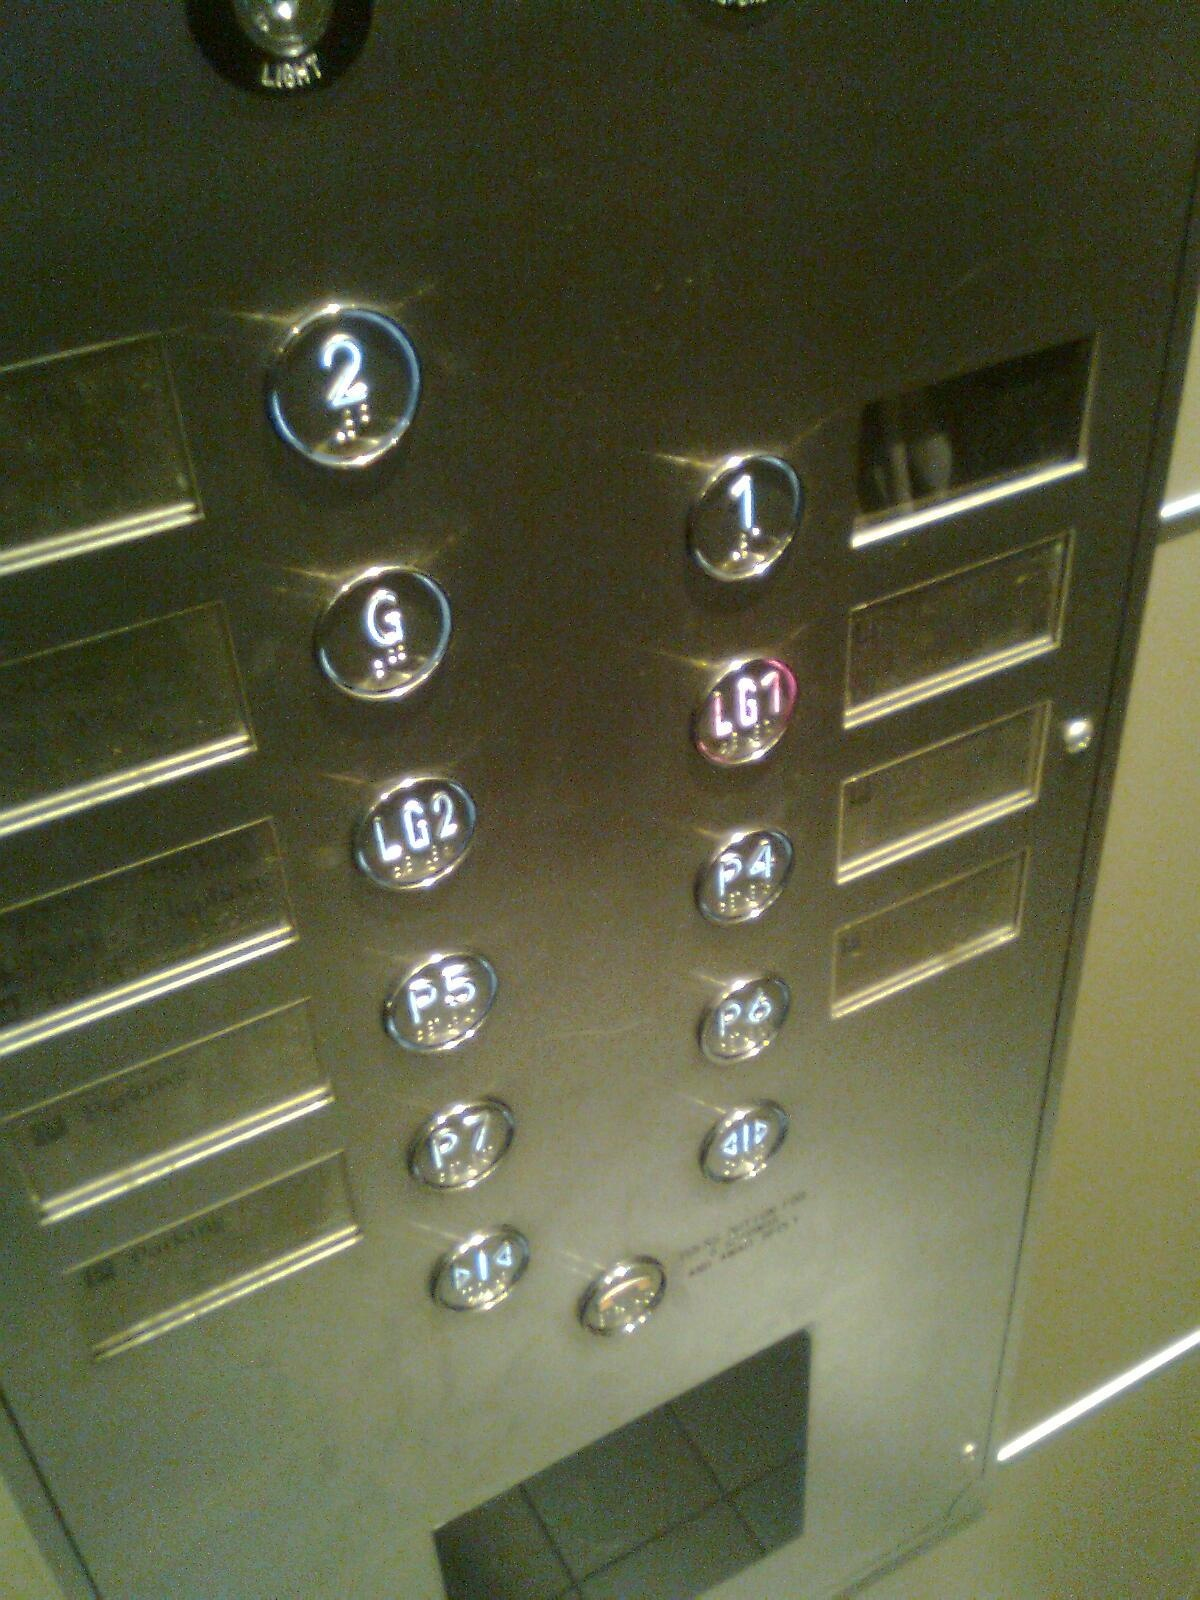1: (687, 452, 807, 588)
2: (260, 302, 427, 481)
G: (308, 559, 458, 712)
LG1: (691, 648, 797, 774)
LG2: (340, 766, 482, 896)
P4: (688, 821, 802, 934)
P5: (379, 946, 502, 1065)
P6: (695, 966, 795, 1071)
P7: (401, 1095, 518, 1199)
call: (568, 1249, 671, 1349)
close: (432, 1221, 533, 1320)
open: (695, 1094, 794, 1198)
